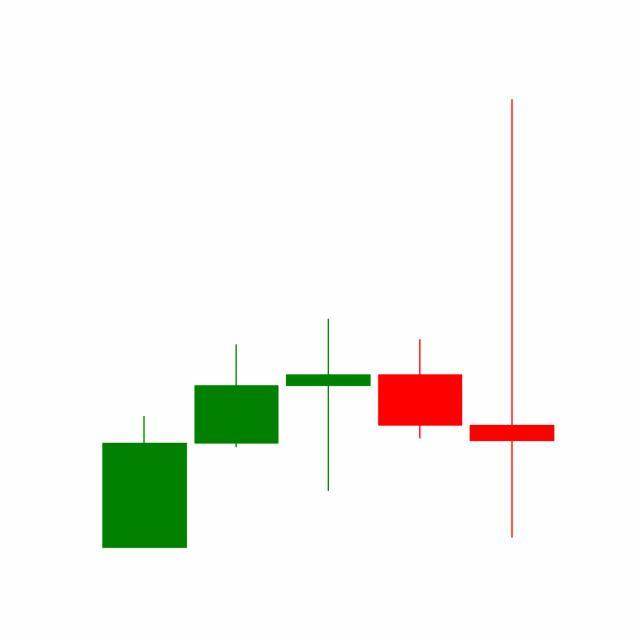Spinning Top: (466, 95, 559, 543)
